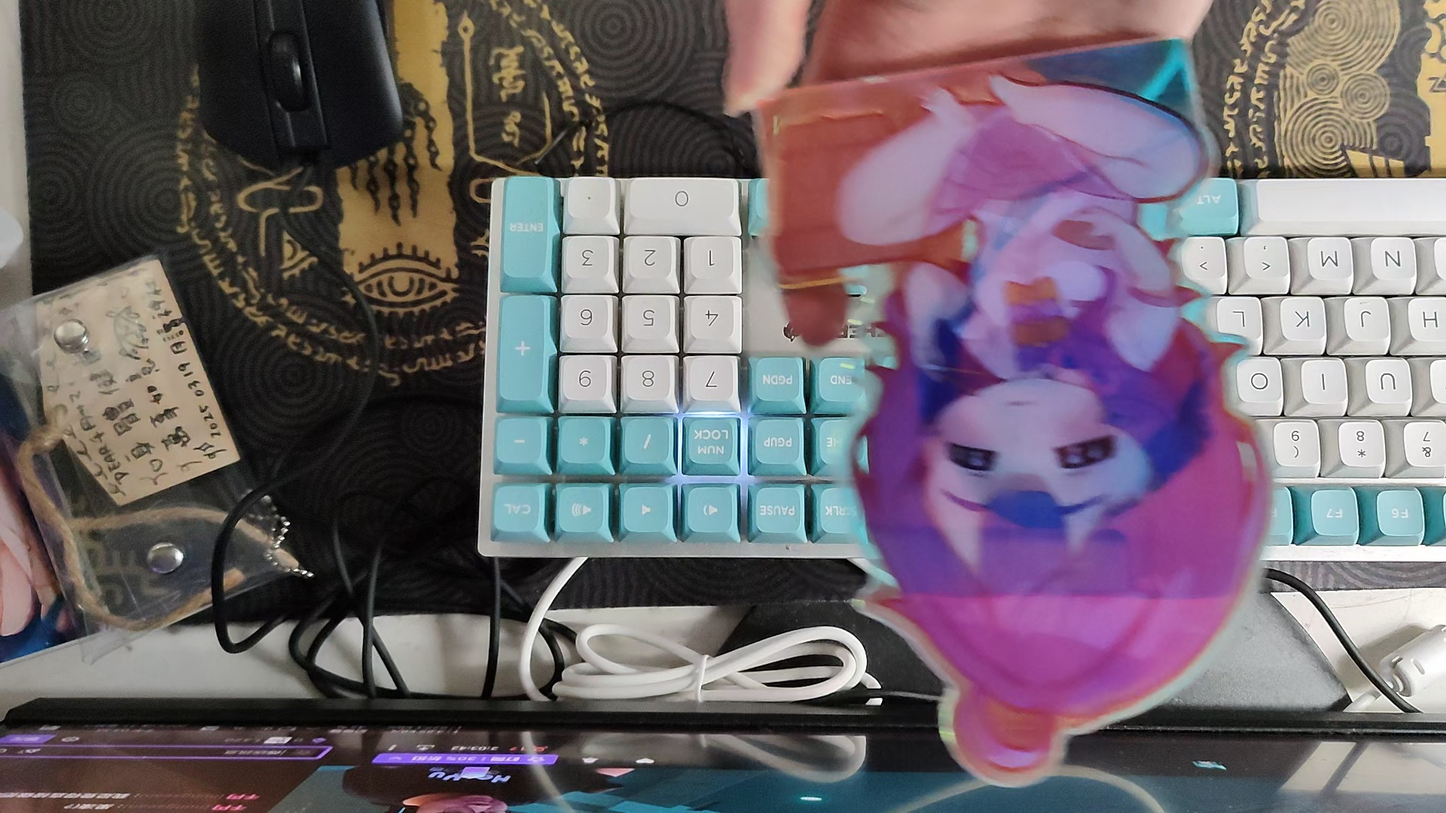Yanami-anna: (749, 33, 1275, 789)
